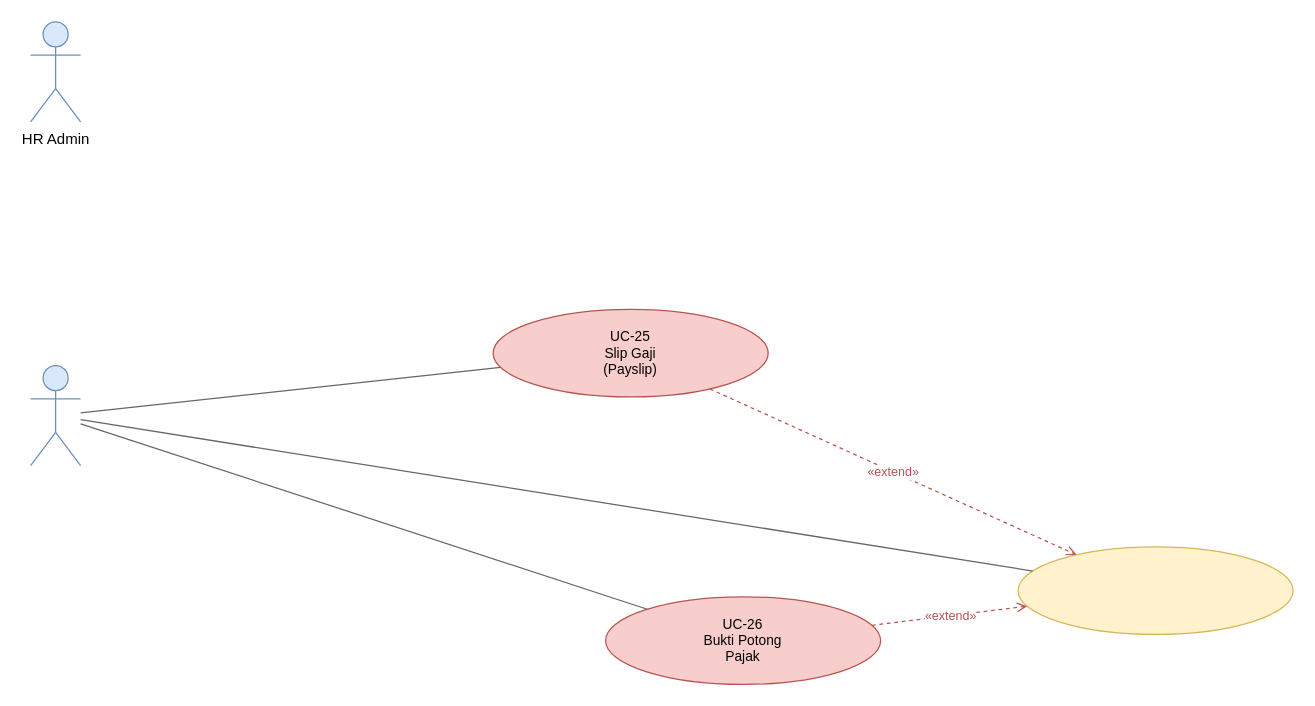
Some shapes in this 1315 by 706 pixel diagram are drawn without their labels. Each missing label, with the centre of its shape:
Karyawan: the point at 55,415
UC-05 Klaim Gaji Terakumulasi (EWA): the point at 1155,590
